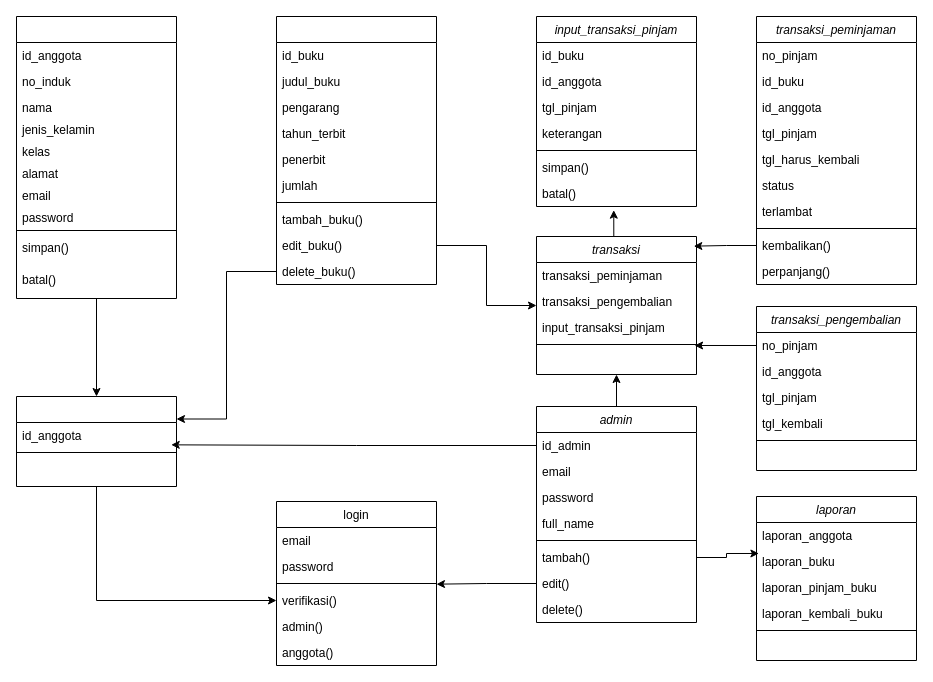
Some shapes in this 933 by 682 pixel diagram are drawn without their labels. Here are the shapes that lost their labels. From the top down, the box of each, then its label:
(16, 16, 176, 298): registrasi
(276, 16, 436, 284): data_buku
(16, 396, 176, 486): data_anggota
